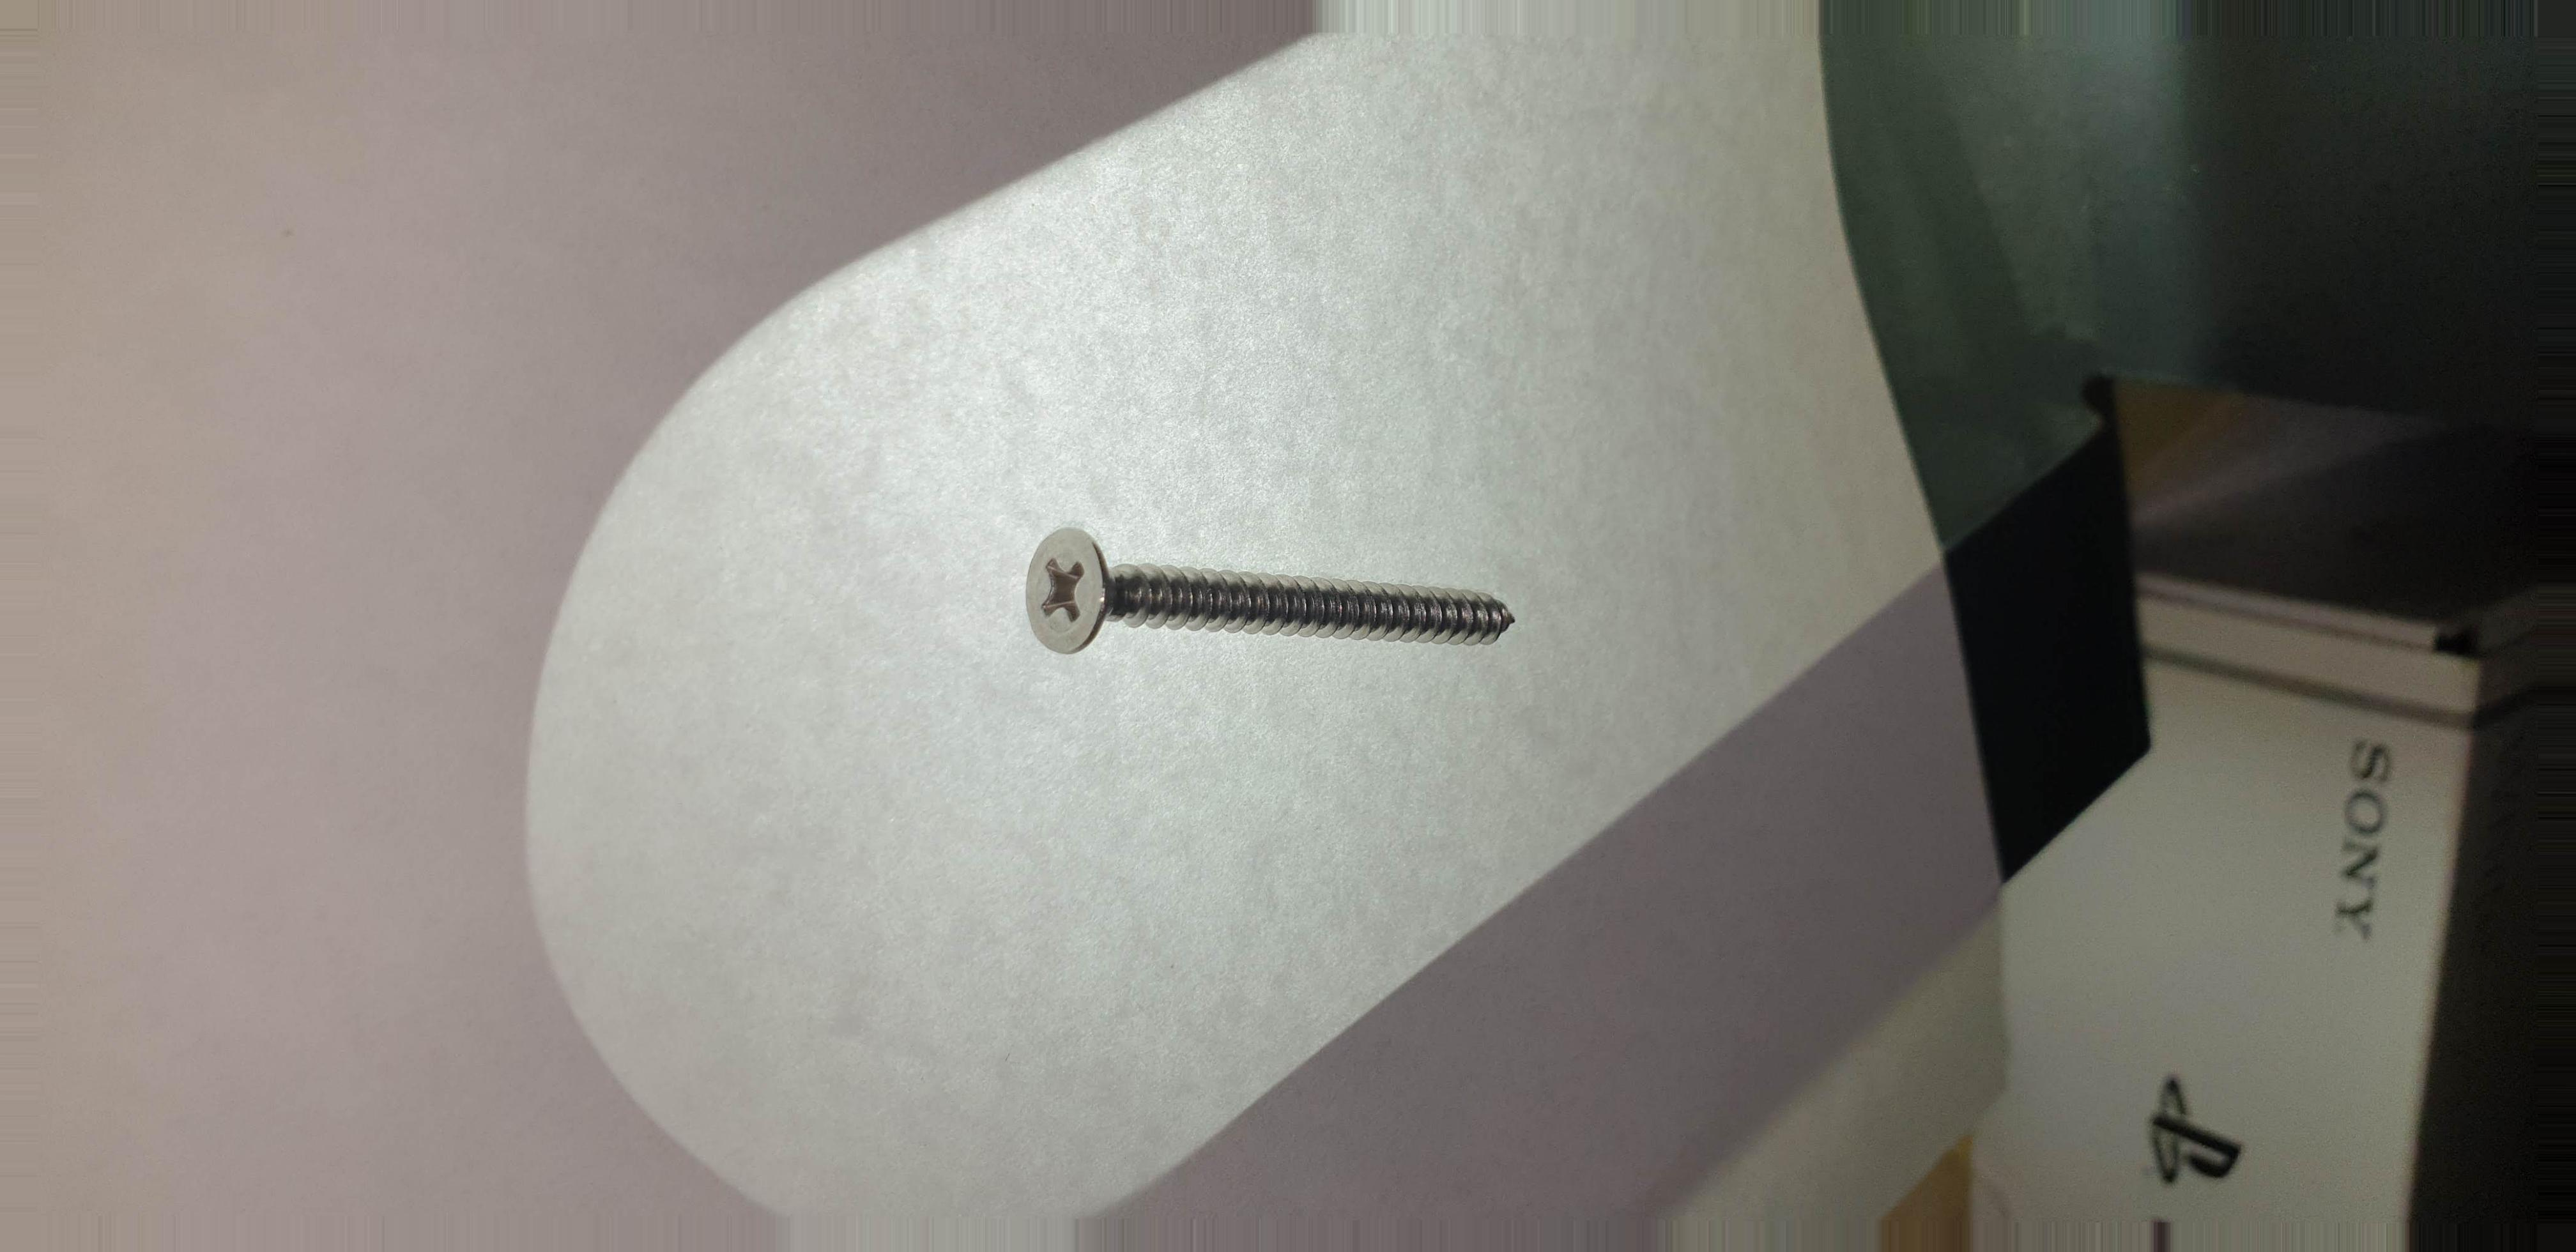fastener: (1001, 488, 1559, 726)
